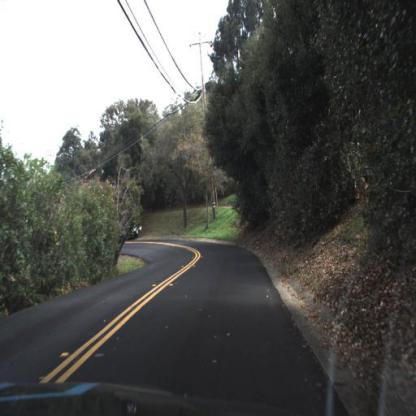car: (126, 217, 148, 242)
